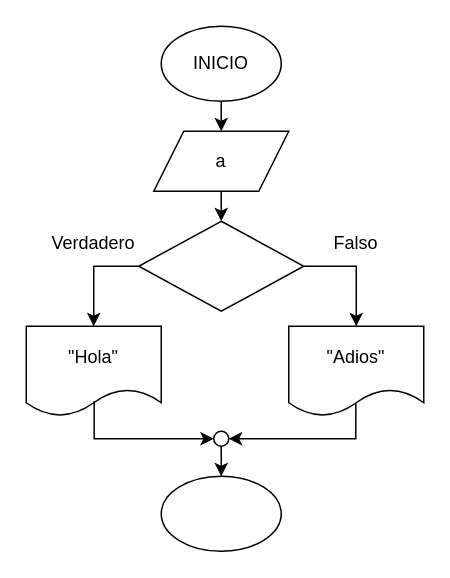
This 450x578 diagram has some shape labels left out. Here are the shapes that lost their labels. From the top down, the centre of each, then its label:
At [220,265]: "a≥0".
At [220,513]: "FIN".
